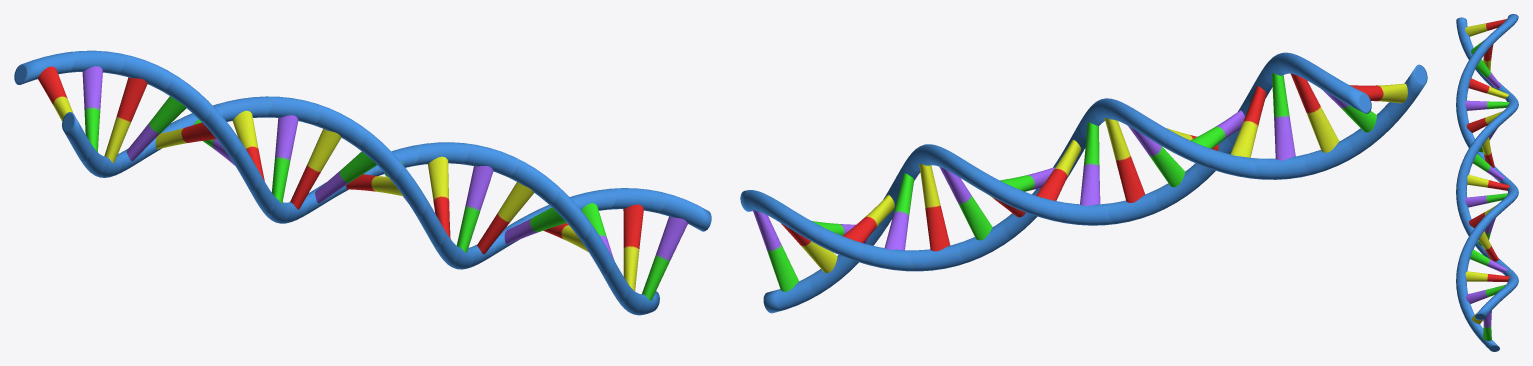
The model's file is dna.glb.
The picture shows the model from 3 angles, left to right: view 1: azimuth 30°, elevation 25°; view 2: azimuth 150°, elevation 25°; view 3: azimuth 270°, elevation 25°; orthographic projection. The views are drawn at different scales.
Parts seen in each view (by area): view 1: Object_8; view 2: Object_8; view 3: Object_8.
Boxes of the visible parts, x1,y1,x2,y2 form: Object_8: (14,50,711,315); Object_8: (740,52,1427,313); Object_8: (1456,14,1518,351).
Size of the model in its own units: 2.07 by 1.15 by 0.3397.
1 material, 1 textured.
